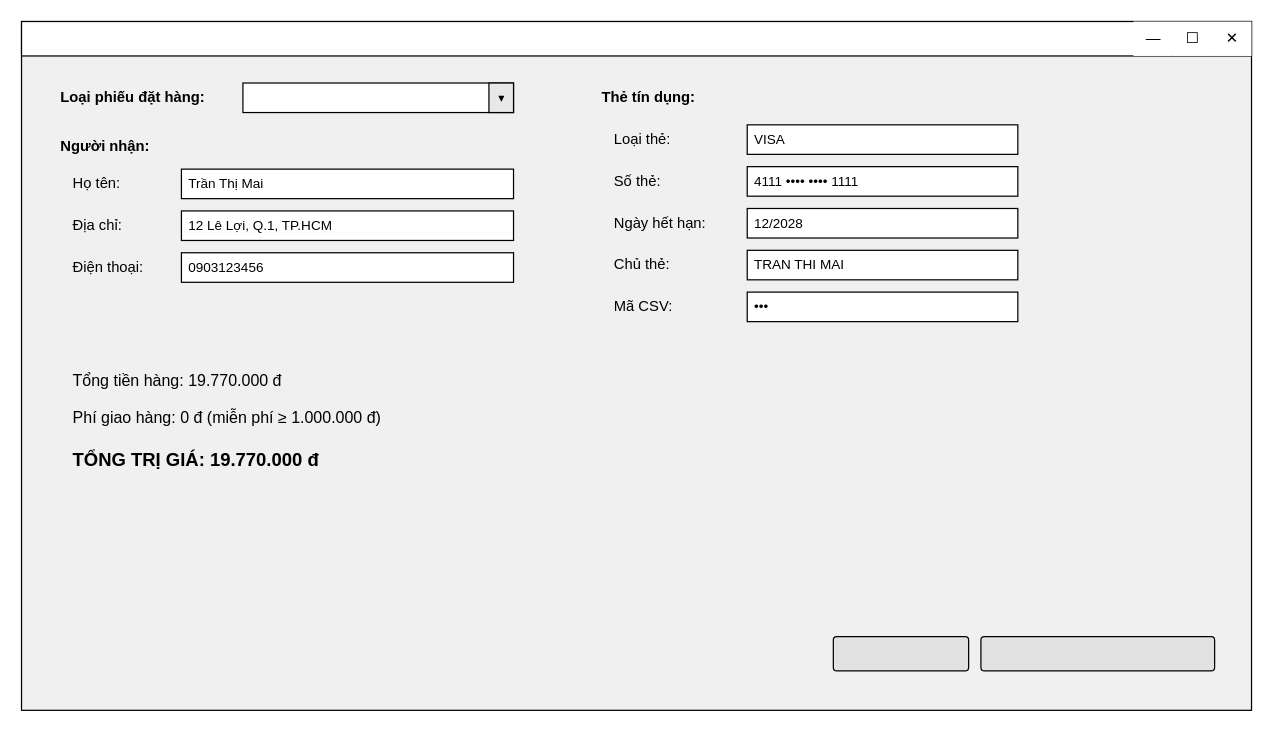
The diagram is 1273 pixels wide and 732 high, and some of its shapes have lost their labels. The box of each missing label's shape, as (x1, y1, x2, y2) in pixels:
Chuyển phát nhanh: (242, 82, 514, 113)
e-SHOPPING - Đặt hàng và thanh toán: (20, 20, 1252, 56)
Quay lại: (832, 635, 969, 671)
Xác nhận đặt hàng: (980, 635, 1215, 671)
